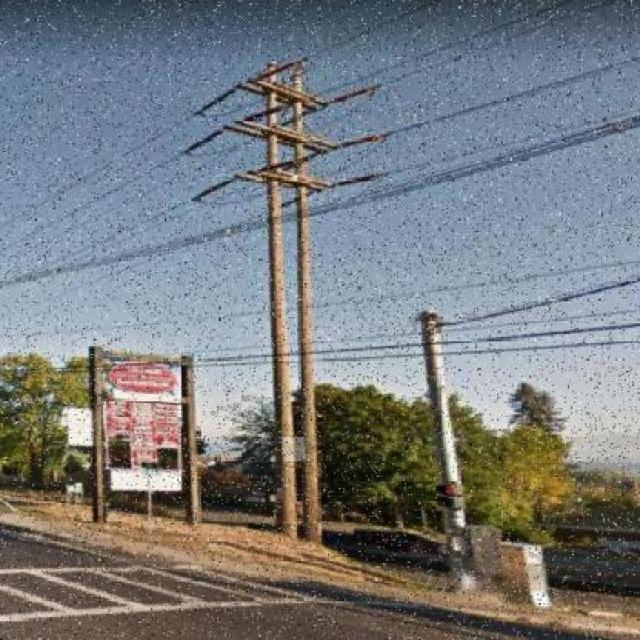crossarm: (227, 119, 342, 155), (239, 75, 330, 112), (237, 167, 333, 193)
pole: (266, 62, 298, 539), (293, 67, 321, 544)
wire: (0, 116, 639, 291), (311, 1, 575, 100), (377, 55, 639, 140), (191, 307, 639, 355), (381, 1, 623, 89), (366, 107, 639, 181), (0, 150, 186, 255), (189, 322, 640, 364), (312, 260, 640, 309), (194, 339, 639, 368), (436, 276, 639, 327), (302, 0, 442, 63)
